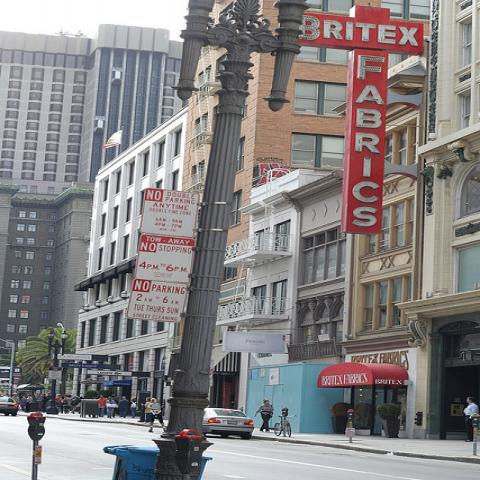car: (202, 407, 254, 439), (0, 396, 20, 416)
